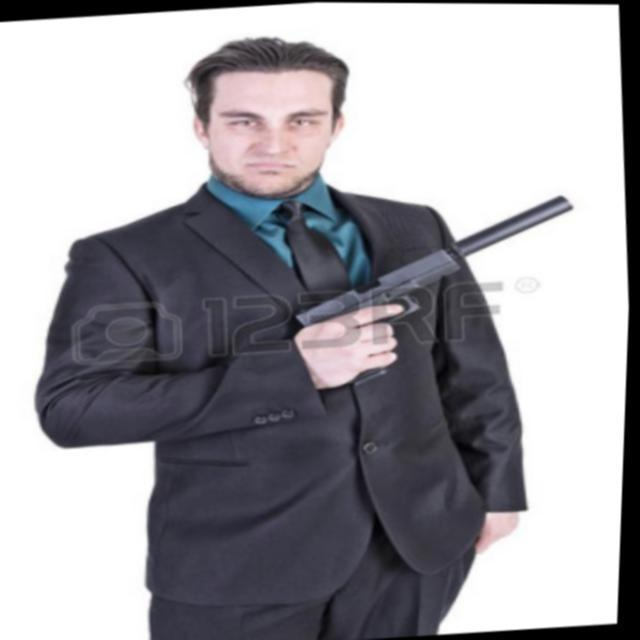weapon: (284, 190, 586, 390)
